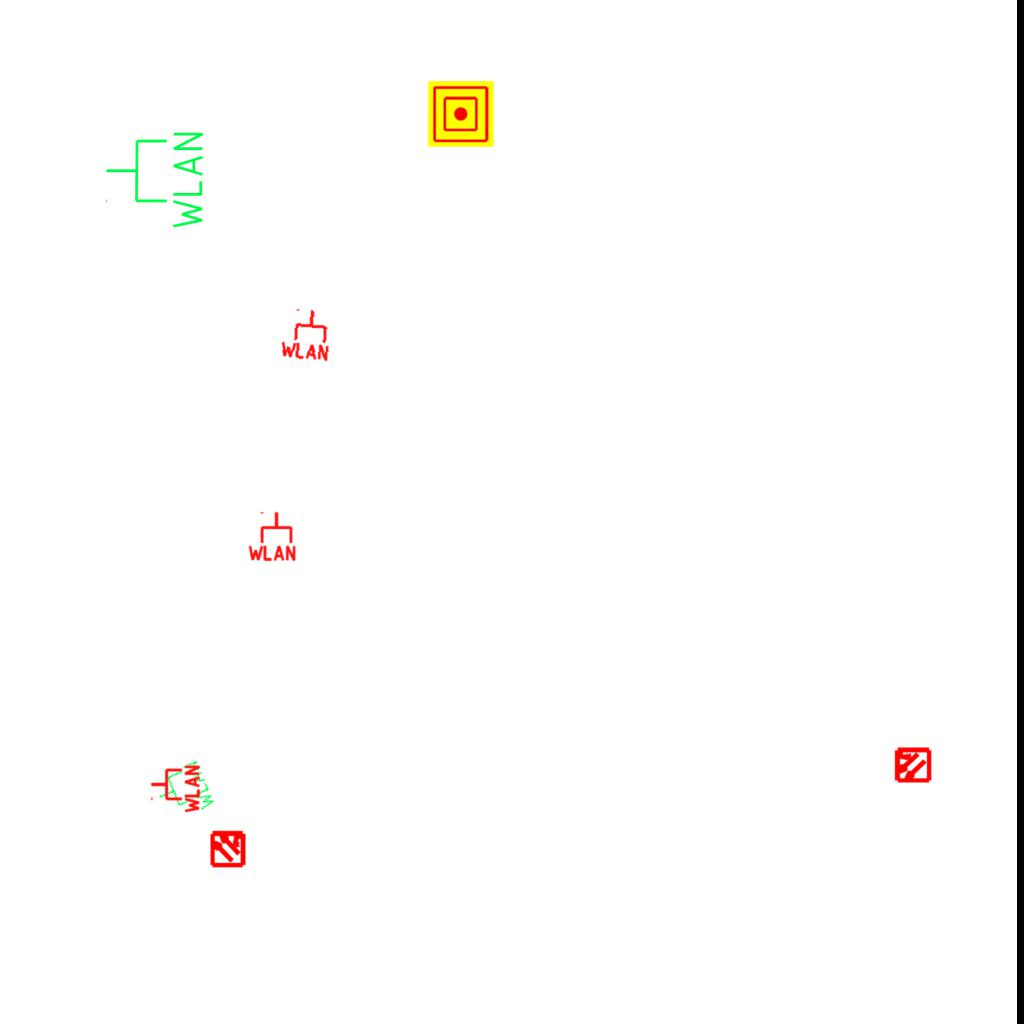NAM-Nichtautomatischer_Melder: (428, 81, 494, 147)
OT_Multisensormelder_(Kombination_RMO_WMD): (883, 736, 941, 794), (200, 820, 256, 876)
WLAN: (103, 128, 207, 233), (149, 757, 219, 827), (277, 305, 335, 363), (246, 510, 298, 562), (149, 763, 201, 815)
